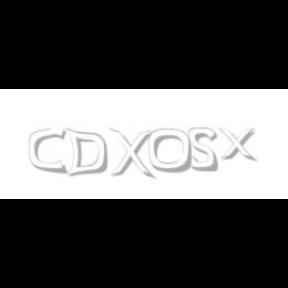C: (30, 128, 66, 174)
D: (64, 128, 108, 178)
O: (148, 128, 194, 174)
S: (189, 128, 220, 172)
X: (109, 128, 153, 180)
x: (218, 128, 260, 162)
